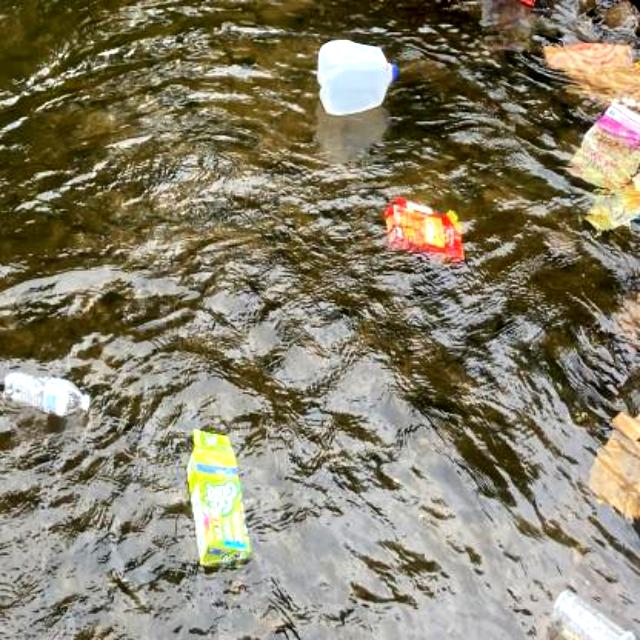Cardboard: (178, 422, 254, 578), (566, 101, 640, 225), (374, 191, 470, 275)
Paper: (535, 36, 639, 118), (586, 408, 640, 528)
Plastic: (313, 34, 399, 120), (0, 366, 92, 422), (547, 584, 639, 638)
